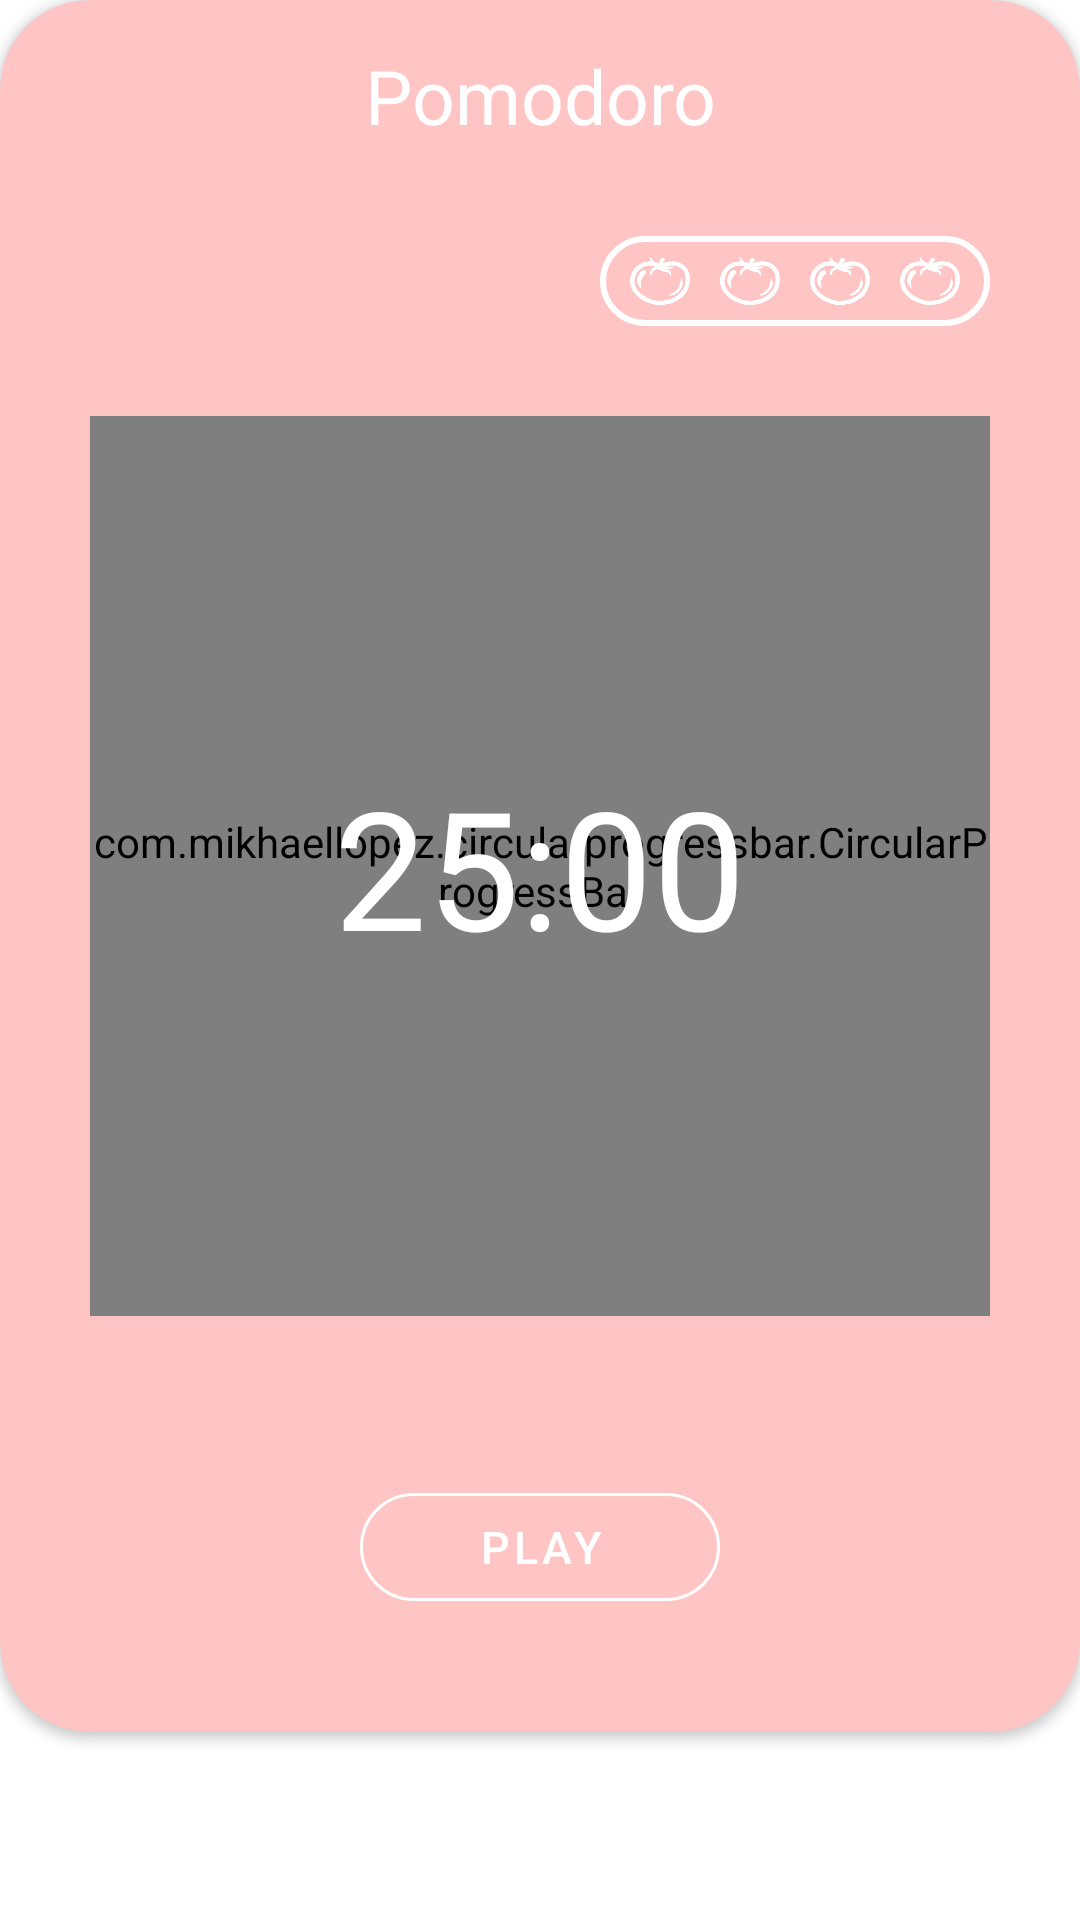

Locate icon controls on the screen. Image size 1080x1920, boxes as box(x1, y1, x2, y2).
tomato: box(630, 257, 690, 305), box(720, 257, 780, 305), box(810, 257, 870, 305), box(900, 257, 960, 305)
